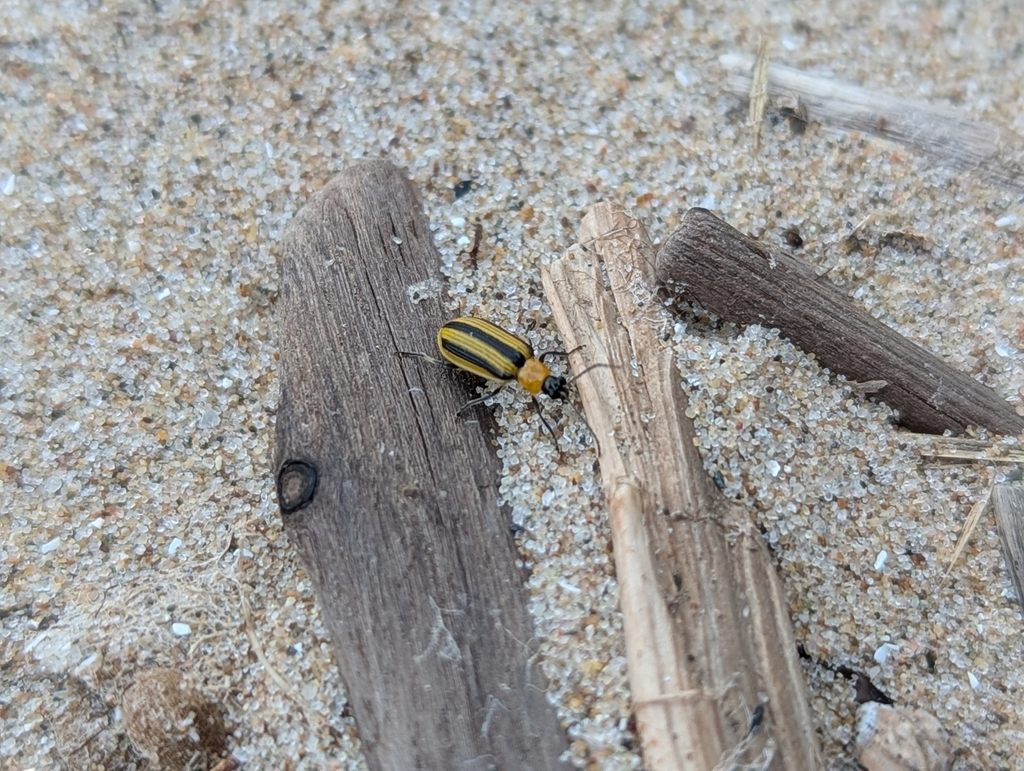potato_beetle: (375, 269, 653, 486)
